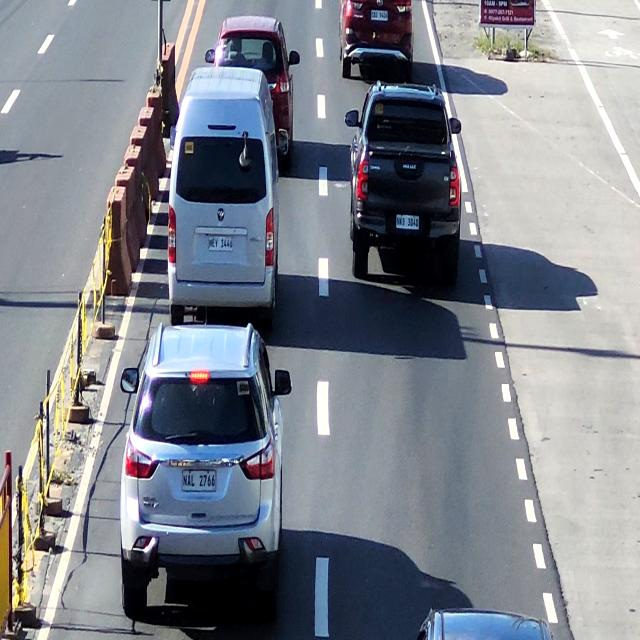Car: (126, 323, 286, 601), (167, 59, 284, 321), (345, 88, 462, 293), (208, 10, 296, 170), (339, 0, 418, 79), (407, 609, 562, 640)
License-Plate: (178, 466, 220, 498), (206, 233, 236, 256), (394, 213, 421, 233), (369, 7, 389, 26)
